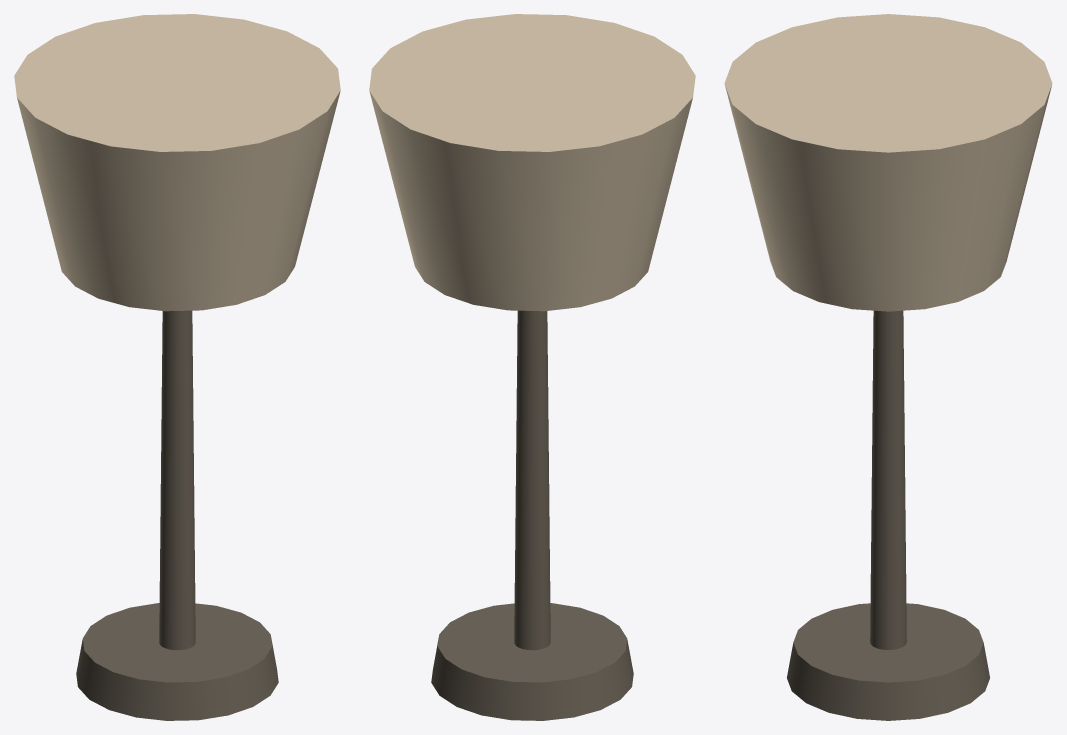
The model's file is lamp_bedside_pair.glb.
The picture shows the model from 3 angles, left to right: view 1: azimuth 30°, elevation 25°; view 2: azimuth 150°, elevation 25°; view 3: azimuth 270°, elevation 25°; orthographic projection.
Parts seen in each view (by area): view 1: furniture; view 2: furniture; view 3: furniture.
Boxes of the visible parts, bbox=[...] form: furniture: bbox=[14, 14, 340, 720]; furniture: bbox=[369, 14, 695, 720]; furniture: bbox=[724, 14, 1052, 720].
Size of the model in its own units: 0.25 by 0.5 by 0.25.
